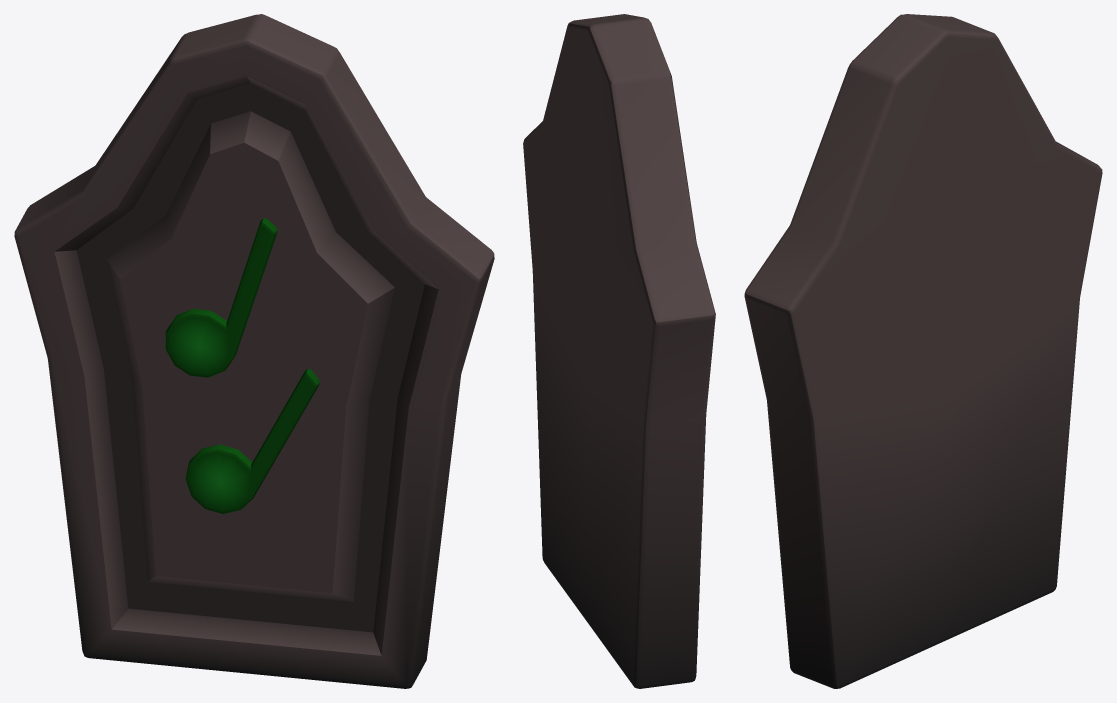
Rendered from Grave Medium.fbx.
3 views of the same model, side by side, from view 1: azimuth 30°, elevation 25°; view 2: azimuth 150°, elevation 25°; view 3: azimuth 270°, elevation 25° (orthographic). The views are drawn at different scales.
Visible parts, largest first — view 1: polySurface174; view 2: polySurface174; view 3: polySurface174.
Boxes of the visible parts, x1,y1,x2,y2 form: polySurface174: (14,14,494,688); polySurface174: (523,14,715,688); polySurface174: (744,14,1102,688).
Size of the model in its own units: 1.78 by 3.18 by 1.69.
